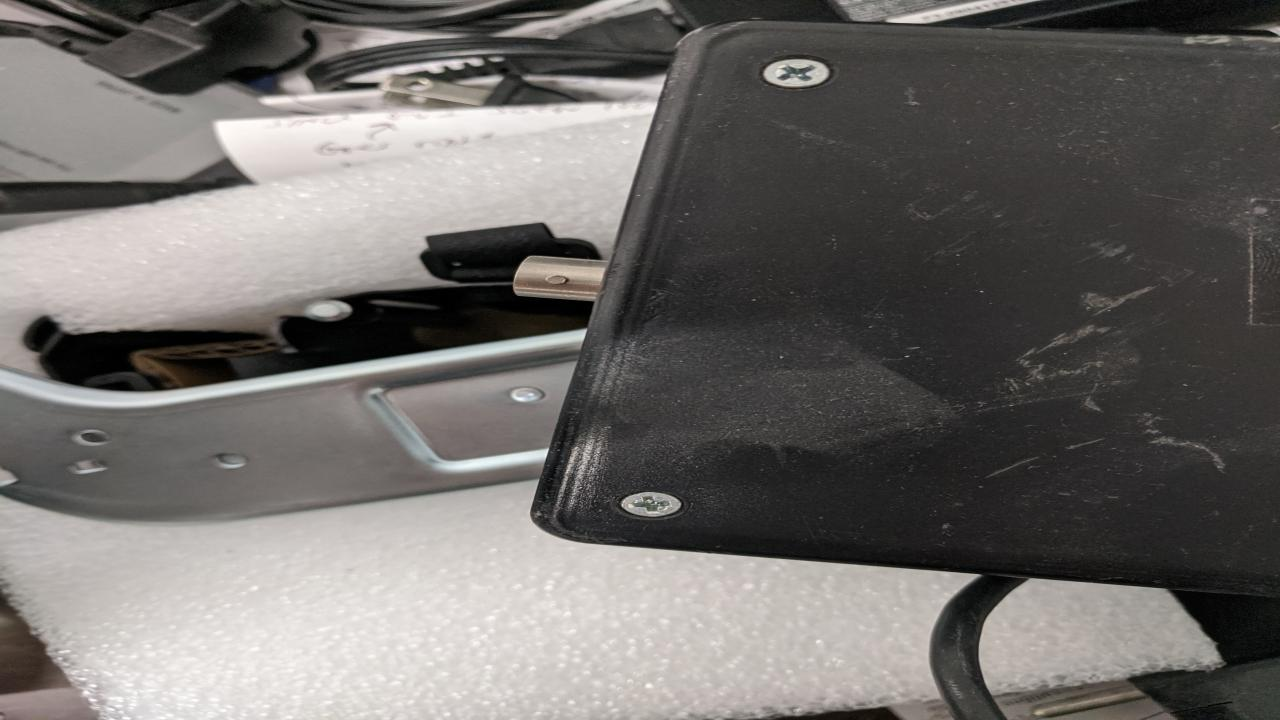CRS: (766, 55, 833, 87), (620, 490, 686, 518)
